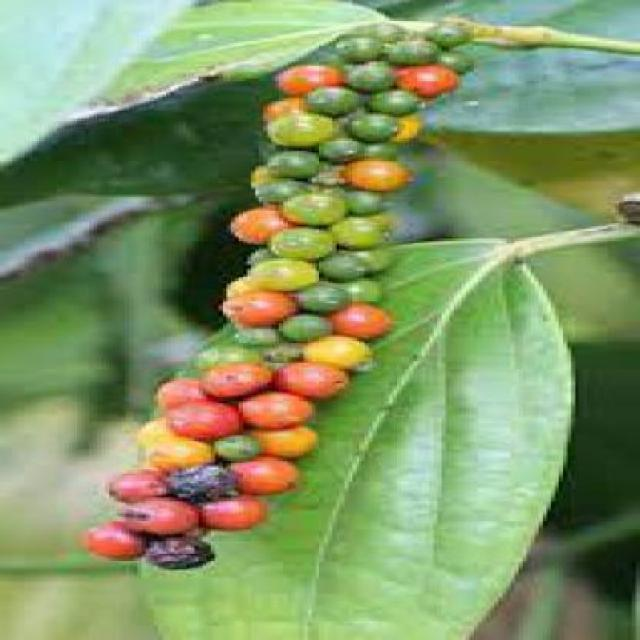RIPE: (77, 32, 494, 586)
